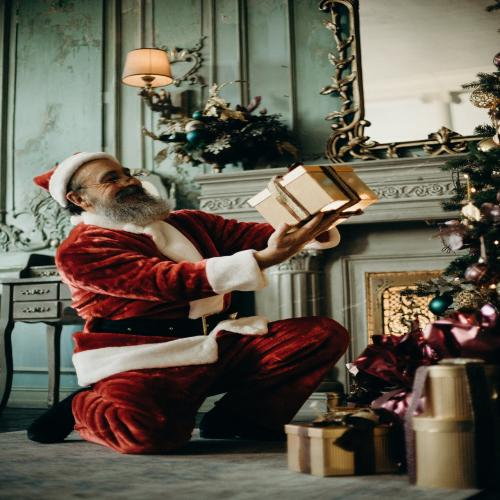Santa: (32, 151, 378, 456)
